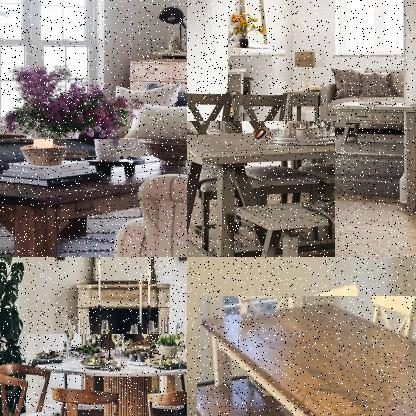table: (196, 295, 415, 415), (0, 139, 186, 256), (187, 121, 335, 256), (25, 333, 186, 415)
